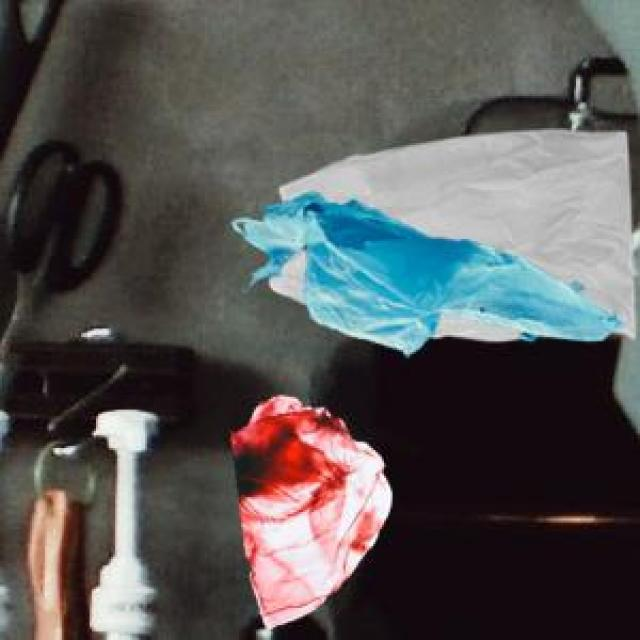waste: (232, 132, 631, 354), (232, 396, 391, 627)
